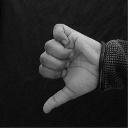hand: (38, 22, 101, 114)
